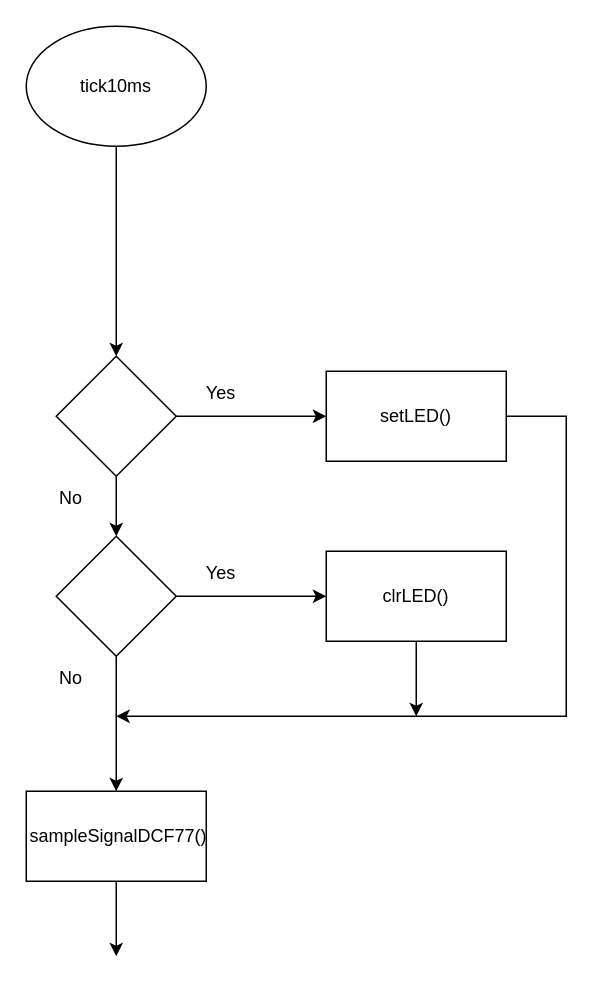
The diagram is 605 pixels wide and 995 high, and some of its shapes have lost their labels. Here are the shapes that lost their labels. From the top down, the box of each, then its label:
(55, 355, 176, 476): ++ticks >= ONESEC
(55, 535, 176, 656): ticks == MSEC200
